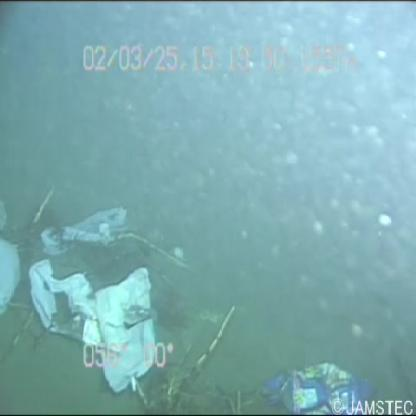Rác: (24, 204, 165, 412)
